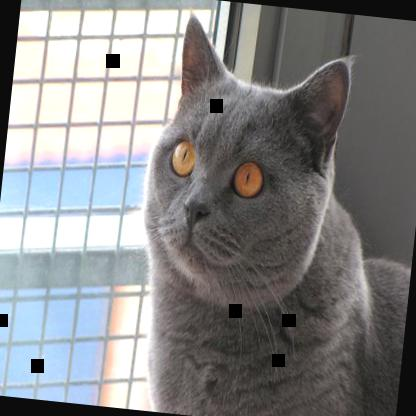cat: (120, 8, 415, 415)
